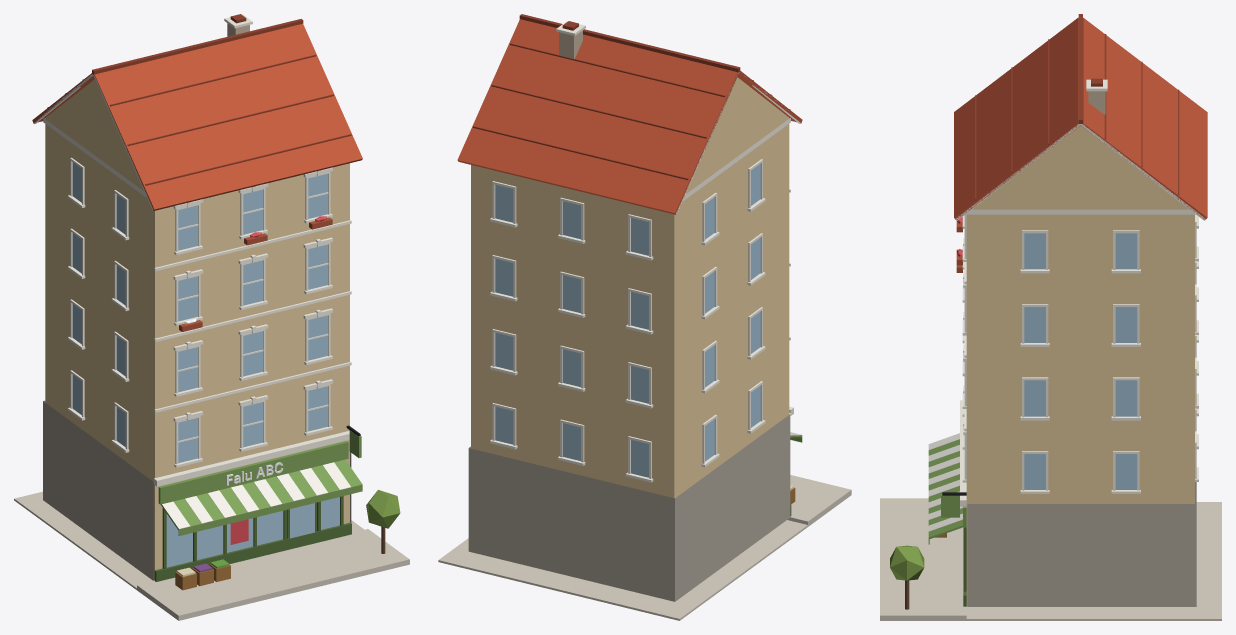
Rendered from Dukkan_falu_abc_Hafif.fbx.
The picture shows the model from 3 angles, left to right: view 1: azimuth 30°, elevation 25°; view 2: azimuth 150°, elevation 25°; view 3: azimuth 270°, elevation 25°; orthographic projection. The views are drawn at different scales.
Visible parts, largest first — view 1: Dukkan_falu_abc_Hafif; view 2: Dukkan_falu_abc_Hafif; view 3: Dukkan_falu_abc_Hafif.
Boxes of the visible parts, x1,y1,x2,y2 form: Dukkan_falu_abc_Hafif: (14,14,409,620); Dukkan_falu_abc_Hafif: (438,14,851,620); Dukkan_falu_abc_Hafif: (880,14,1221,620).
Bounding box in the file's own units: 10.28 × 20.63 × 12.64.
